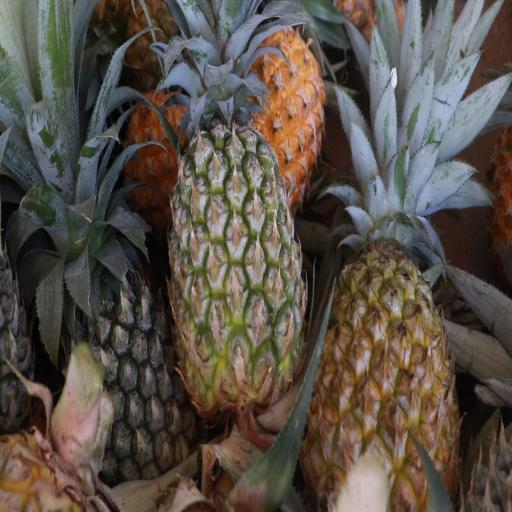------------------------------: (172, 116, 302, 407)
Pineapple - v8 v1: (306, 179, 456, 512), (163, 7, 323, 168)
